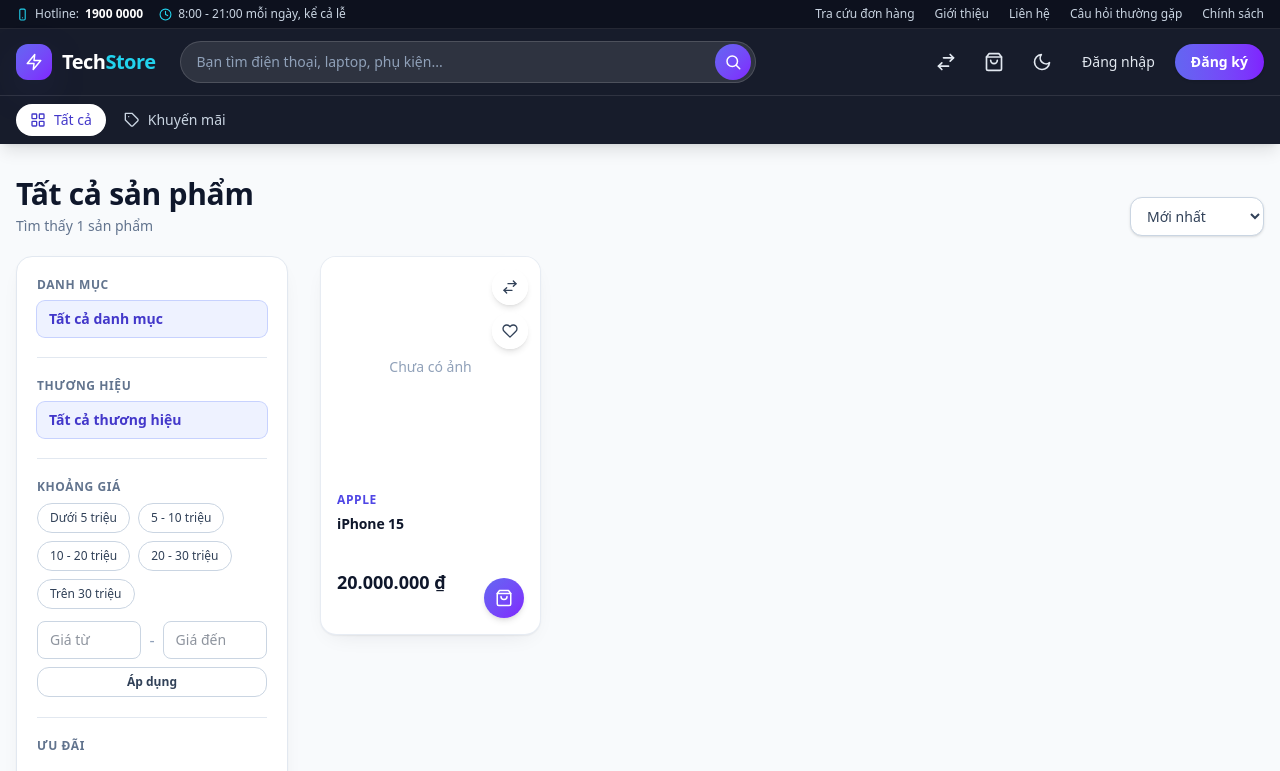
Test: Khách chưa đăng nhập thêm vào giỏ › bấm nút trên thẻ: hỏi máy chủ, lưu vào trình duyệt, KHÔNG gọi API giỏ của tài khoản; số lượng ở đầu trang tăng
Click the button named "Thêm iPhone 15 vào giỏ" at (504, 598), box [484,578,524,618]
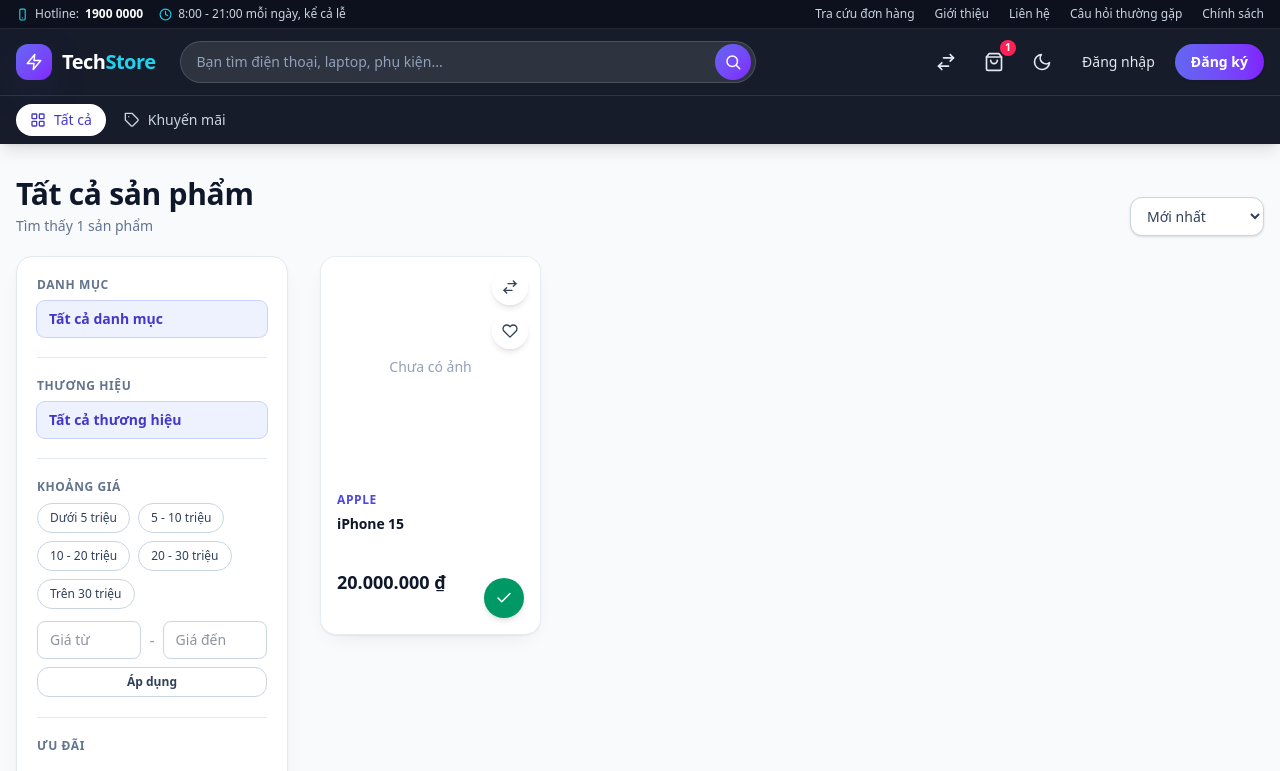
Expected: the link named "Giỏ hàng (1)" is shown, [984,40,1016,72]
